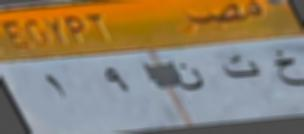1: (41, 69, 68, 106)
9: (102, 62, 132, 97)
khaa: (267, 46, 304, 91)
noon: (174, 58, 206, 100)
taa: (218, 51, 262, 84)
